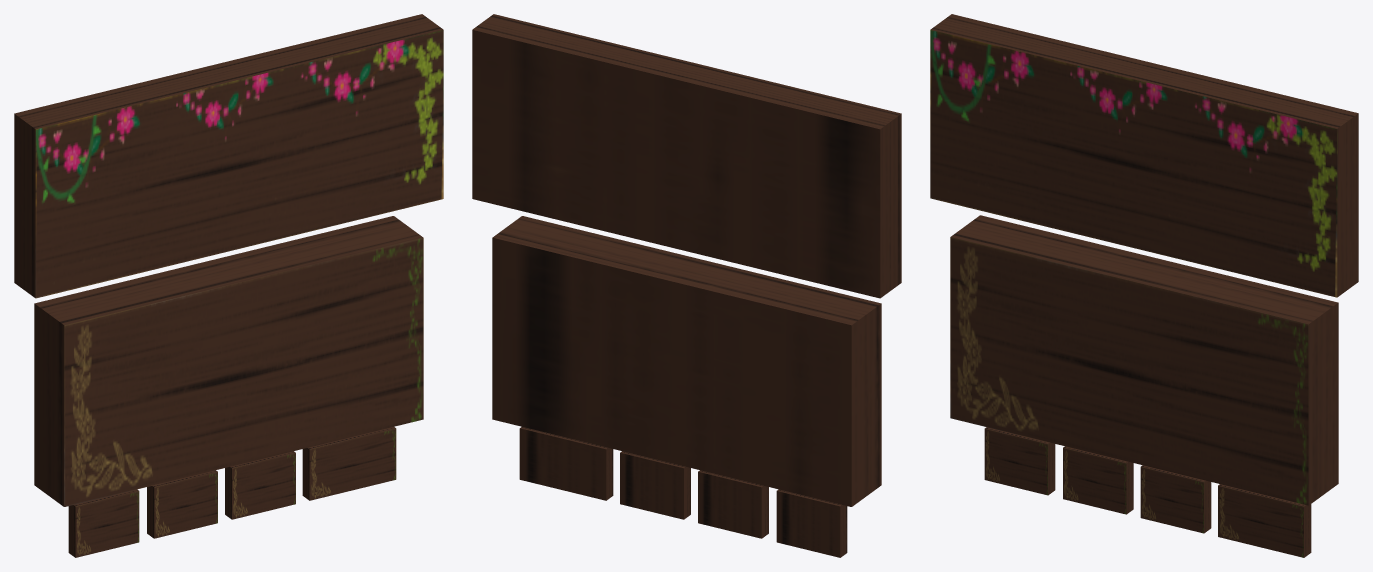
File: Button.fbx
3 views of the same model, side by side, from view 1: azimuth 30°, elevation 25°; view 2: azimuth 150°, elevation 25°; view 3: azimuth 330°, elevation 25° (orthographic).
Parts seen in each view (by area): view 1: Cube.001, Cube, Cube.005, Cube.002, Cube.004, Cube.003; view 2: Cube.001, Cube, Cube.005, Cube.002, Cube.004, Cube.003; view 3: Cube.001, Cube, Cube.005, Cube.002, Cube.004, Cube.003.
Part boxes in pixels (box(x1,y1,x2,y2)): Cube.001: box(34, 216, 423, 506); Cube: box(14, 14, 443, 298); Cube.005: box(302, 427, 396, 500); Cube.002: box(68, 489, 139, 557); Cube.004: box(225, 451, 295, 519); Cube.003: box(147, 470, 217, 538); Cube.001: box(492, 216, 881, 506); Cube: box(472, 14, 901, 298); Cube.005: box(519, 427, 613, 500); Cube.002: box(776, 489, 847, 557); Cube.004: box(620, 451, 690, 519); Cube.003: box(698, 470, 768, 538); Cube.001: box(950, 215, 1338, 505); Cube: box(930, 14, 1358, 297); Cube.005: box(1218, 484, 1311, 557); Cube.002: box(984, 427, 1055, 495); Cube.004: box(1140, 465, 1211, 533); Cube.003: box(1063, 446, 1133, 514).
Bounding box in the file's own units: 307 × 320 × 38.89.
